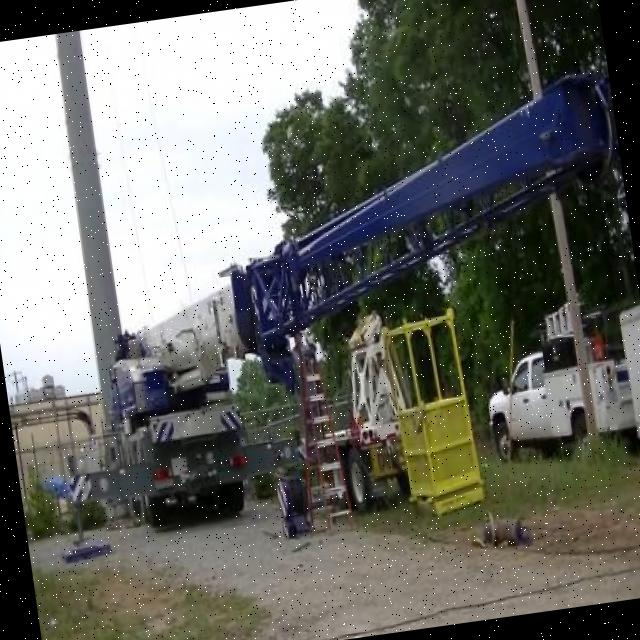Mobile Crane: (21, 68, 640, 544)
